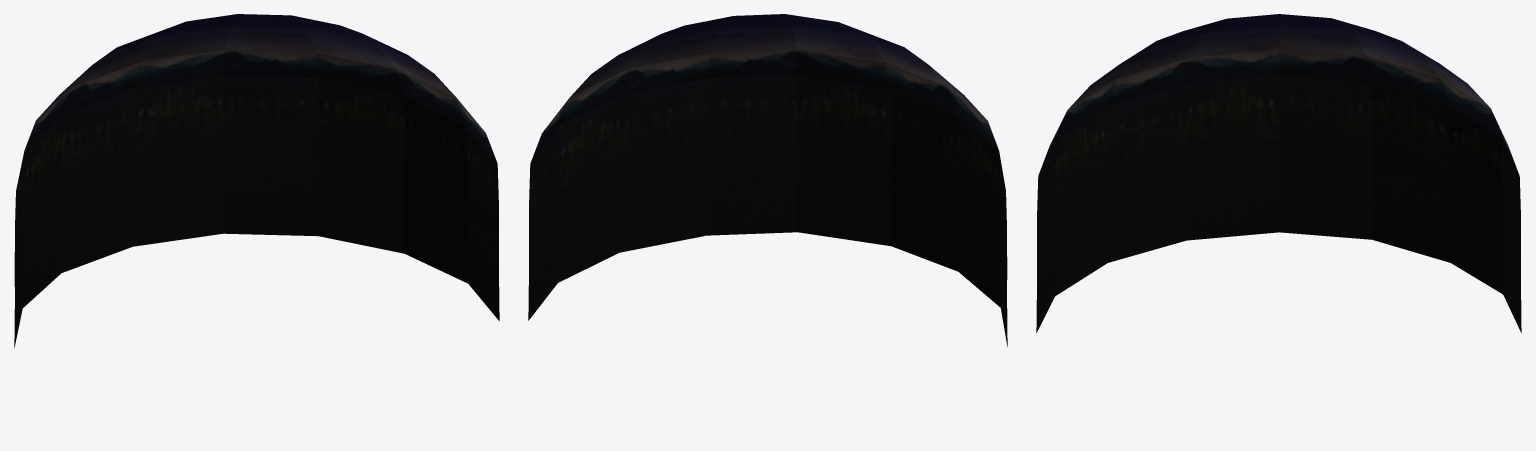
Rendered from Track_05_sky.glb.
3 renders of one model, left to right at view 1: azimuth 30°, elevation 25°; view 2: azimuth 150°, elevation 25°; view 3: azimuth 270°, elevation 25°, orthographic.
Parts seen in each view (by area): view 1: Mesh_0; view 2: Mesh_0; view 3: Mesh_0.
Part boxes in pixels (x1,y1,x2,y2): Mesh_0: [14, 14, 499, 348]; Mesh_0: [528, 14, 1007, 346]; Mesh_0: [1036, 14, 1521, 333].
Size of the model in its own units: 366 by 243 by 366.
1 material, 1 textured.
